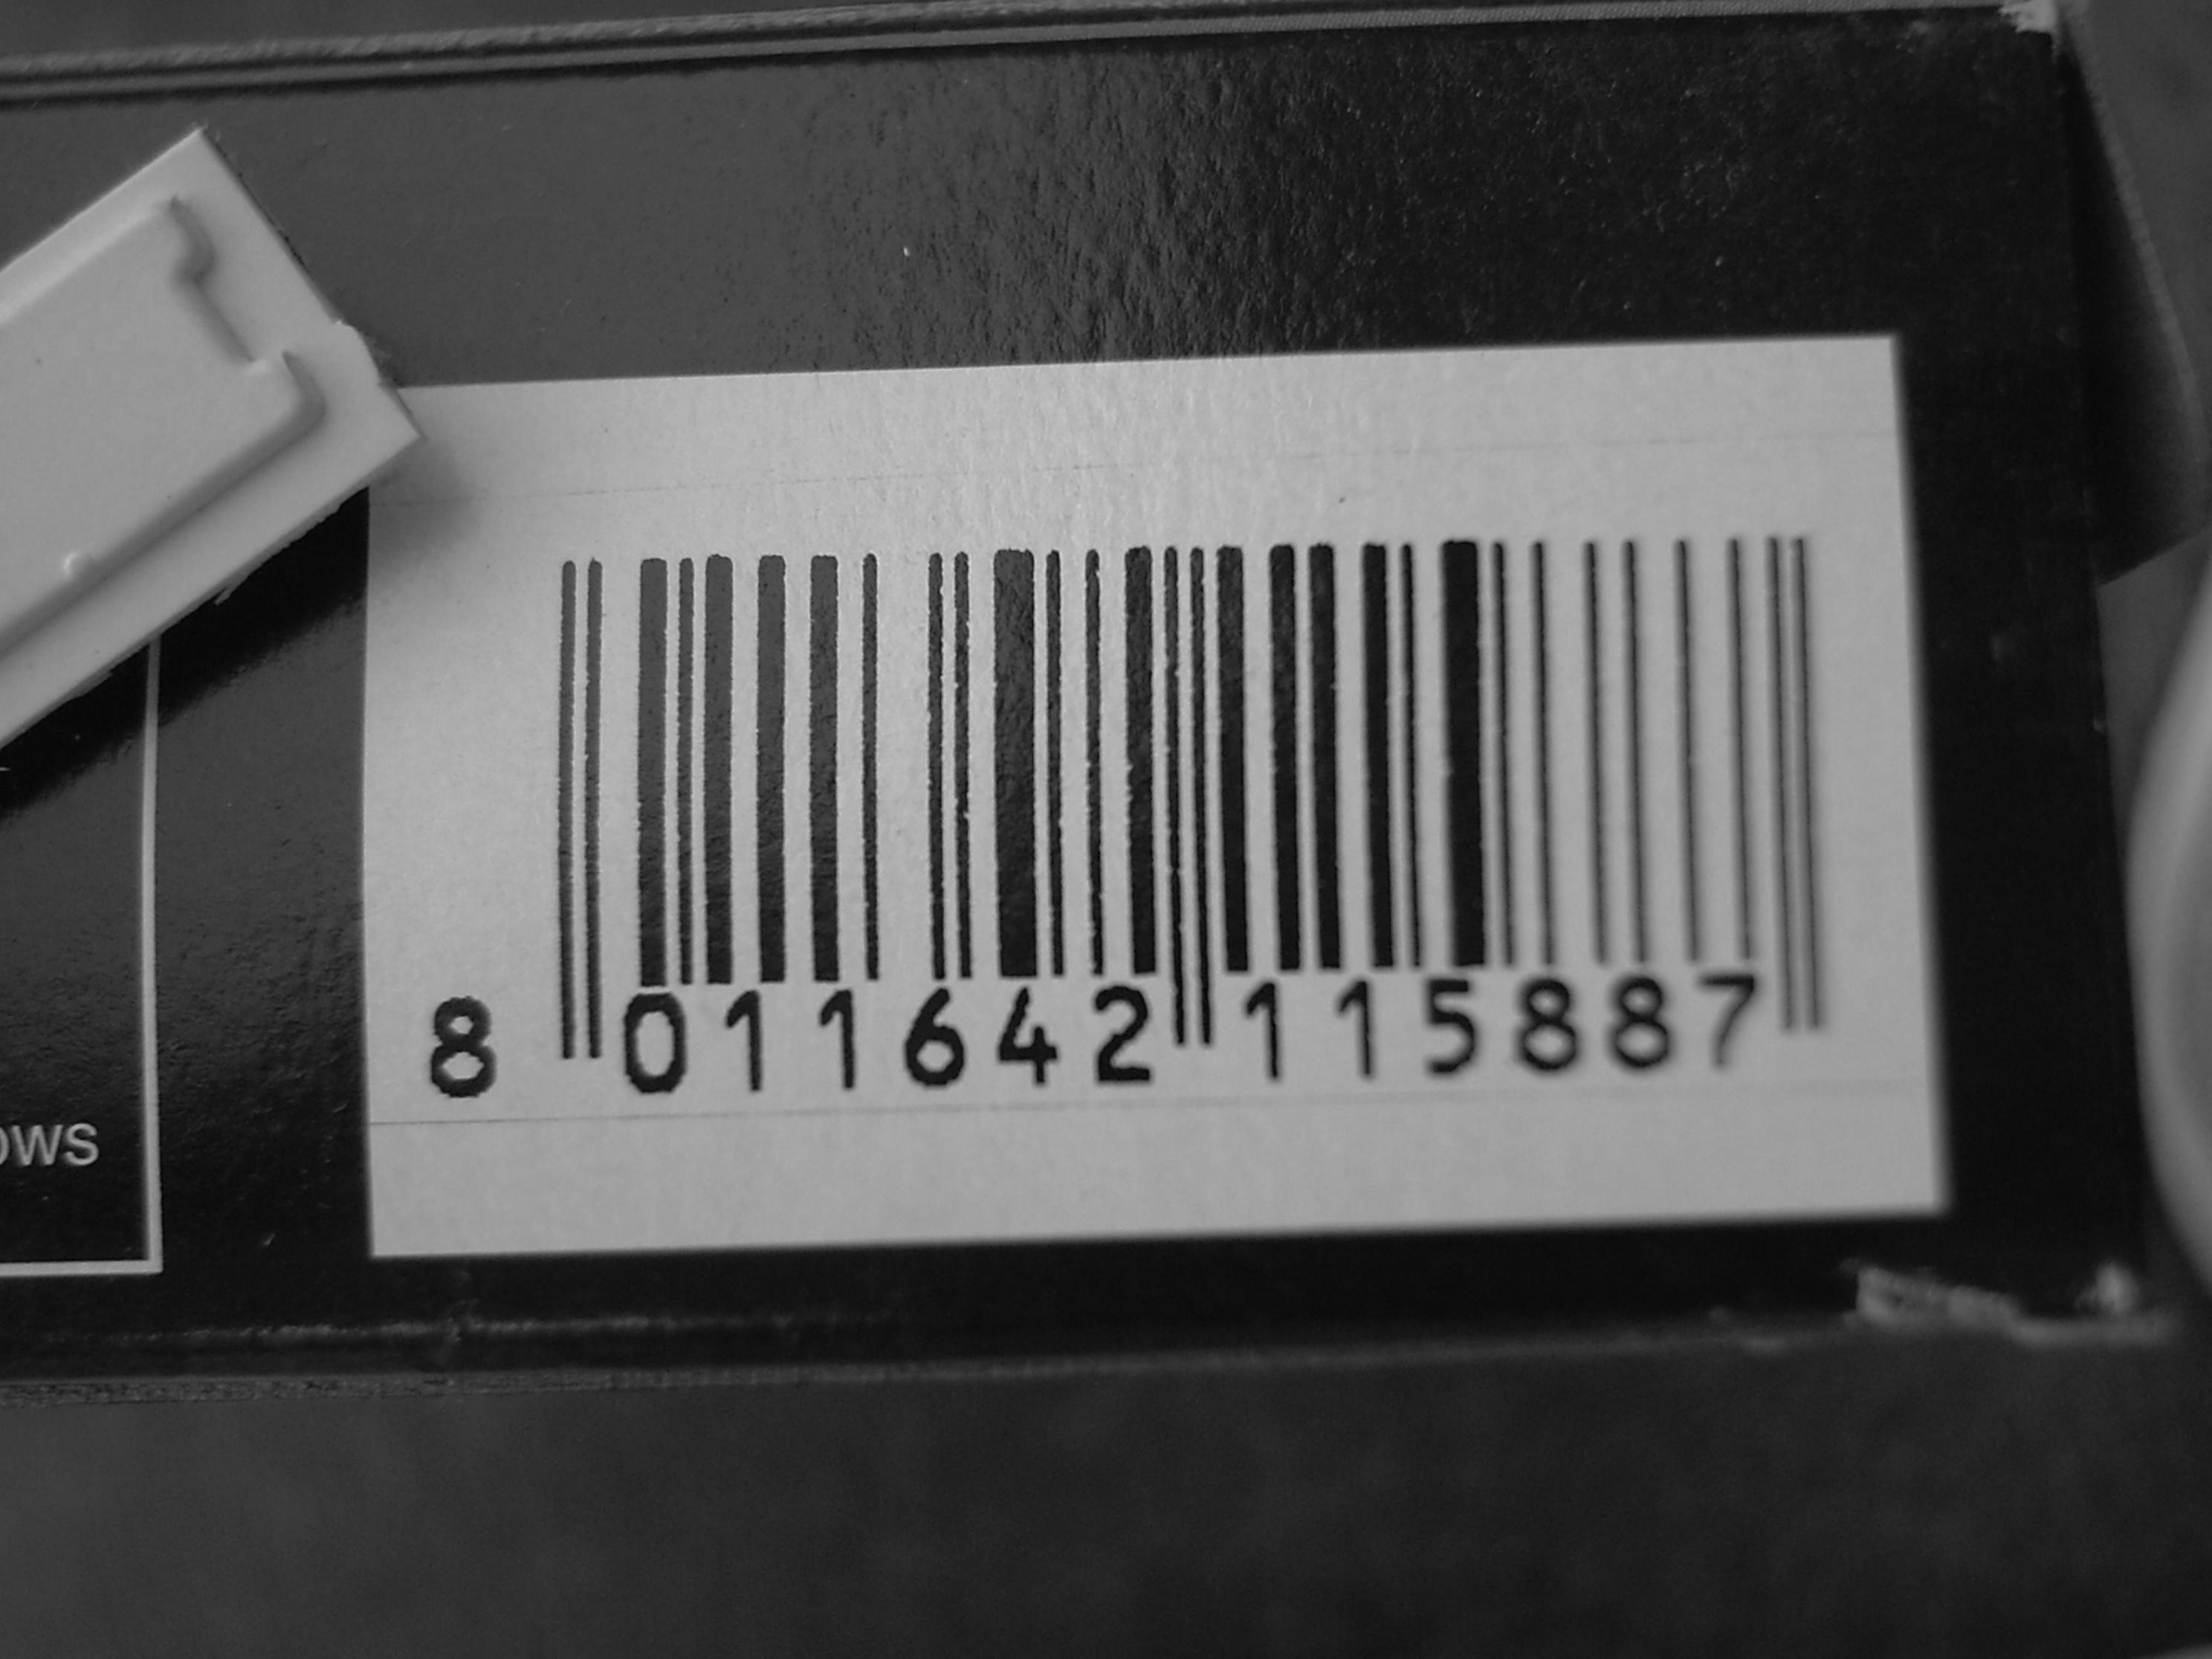Barcode: (507, 502, 1878, 1134)
